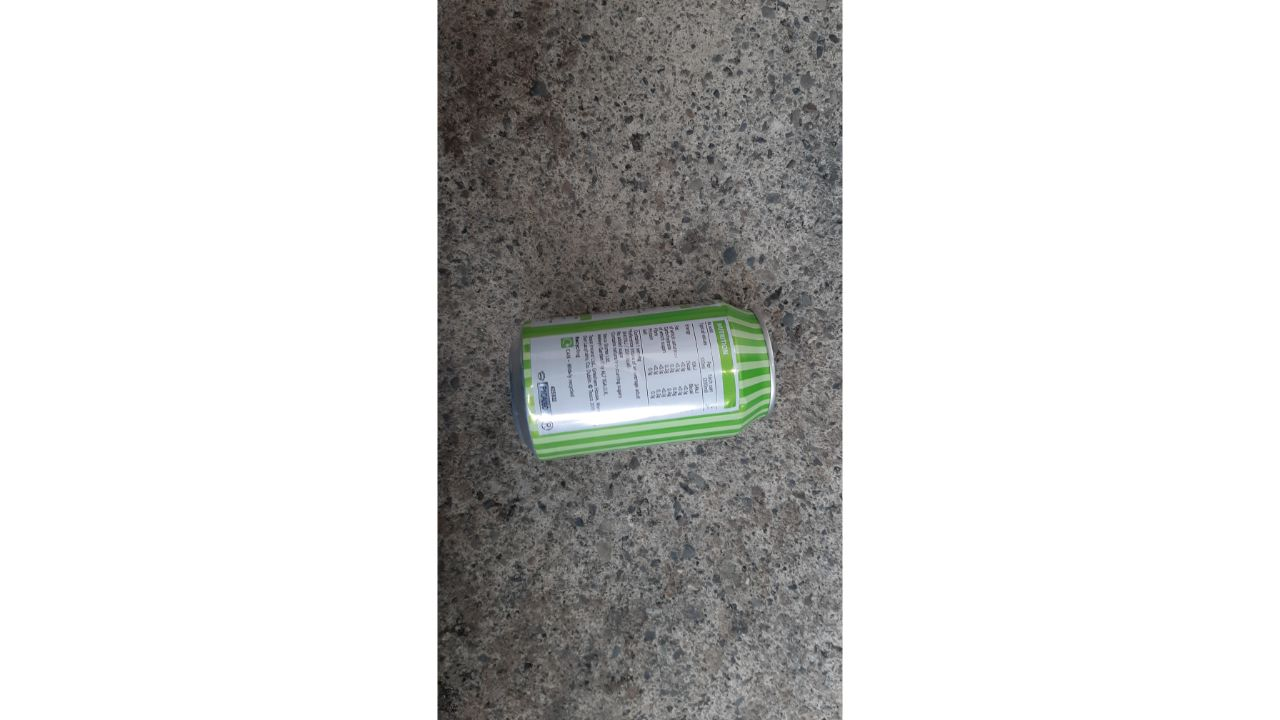Can: (497, 289, 787, 469)
